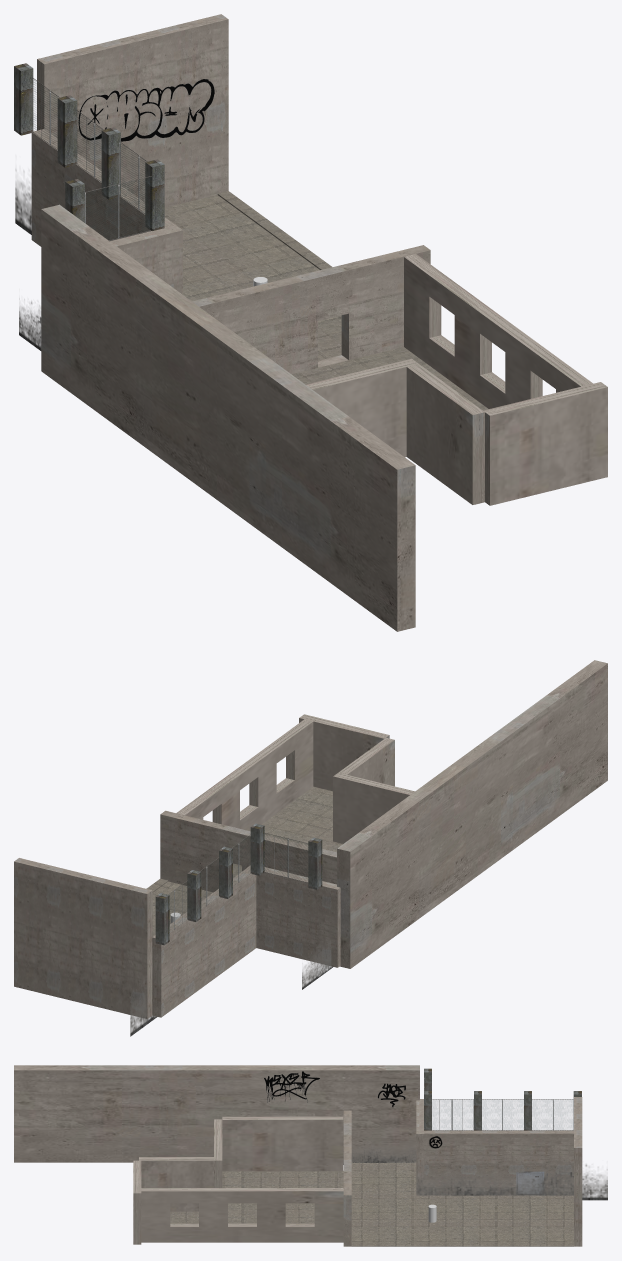
The model's file is test_level.glb.
3 renders of one model, top to bottom at view 1: azimuth 30°, elevation 25°; view 2: azimuth 150°, elevation 25°; view 3: azimuth 270°, elevation 25°, orthographic. The views are drawn at different scales.
Parts seen in each view (by area): view 1: Plane - col, Cube.046, modular_chainlink_fence_double.006, pngimg.com - graffiti_PNG25.003, modular_chainlink_fence_double.007; view 2: Plane - col, Cube.046, modular_chainlink_fence_double.006, modular_chainlink_fence_double.007, grunge.007, Cube.047; view 3: Plane - col, modular_chainlink_fence_double.006, Cube.046, grunge.007, Graffiti-PNG-Picture.003, pngimg.com - graffiti_PNG7.003.
Boxes of the visible parts, left/top/right/bottom form: Plane - col: left=15, top=14, right=607, bottom=631; Cube.046: left=14, top=63, right=164, bottom=230; modular_chainlink_fence_double.006: left=33, top=78, right=147, bottom=214; pngimg.com - graffiti_PNG25.003: left=78, top=79, right=214, bottom=141; modular_chainlink_fence_double.007: left=85, top=176, right=151, bottom=240; Plane - col: left=14, top=660, right=607, bottom=1036; Cube.046: left=155, top=823, right=264, bottom=945; modular_chainlink_fence_double.006: left=168, top=834, right=250, bottom=932; modular_chainlink_fence_double.007: left=264, top=832, right=307, bottom=882; grunge.007: left=302, top=942, right=332, bottom=989; Cube.047: left=308, top=837, right=322, bottom=889; Plane - col: left=14, top=1065, right=607, bottom=1246; modular_chainlink_fence_double.006: left=432, top=1099, right=573, bottom=1130; Cube.046: left=424, top=1091, right=581, bottom=1130; grunge.007: left=343, top=1142, right=416, bottom=1164; Graffiti-PNG-Picture.003: left=264, top=1071, right=319, bottom=1102; pngimg.com - graffiti_PNG7.003: left=377, top=1083, right=405, bottom=1107.
Size of the model in its own units: 52.5 by 28.15 by 147.
Materials: 15 (15 with a texture image).
